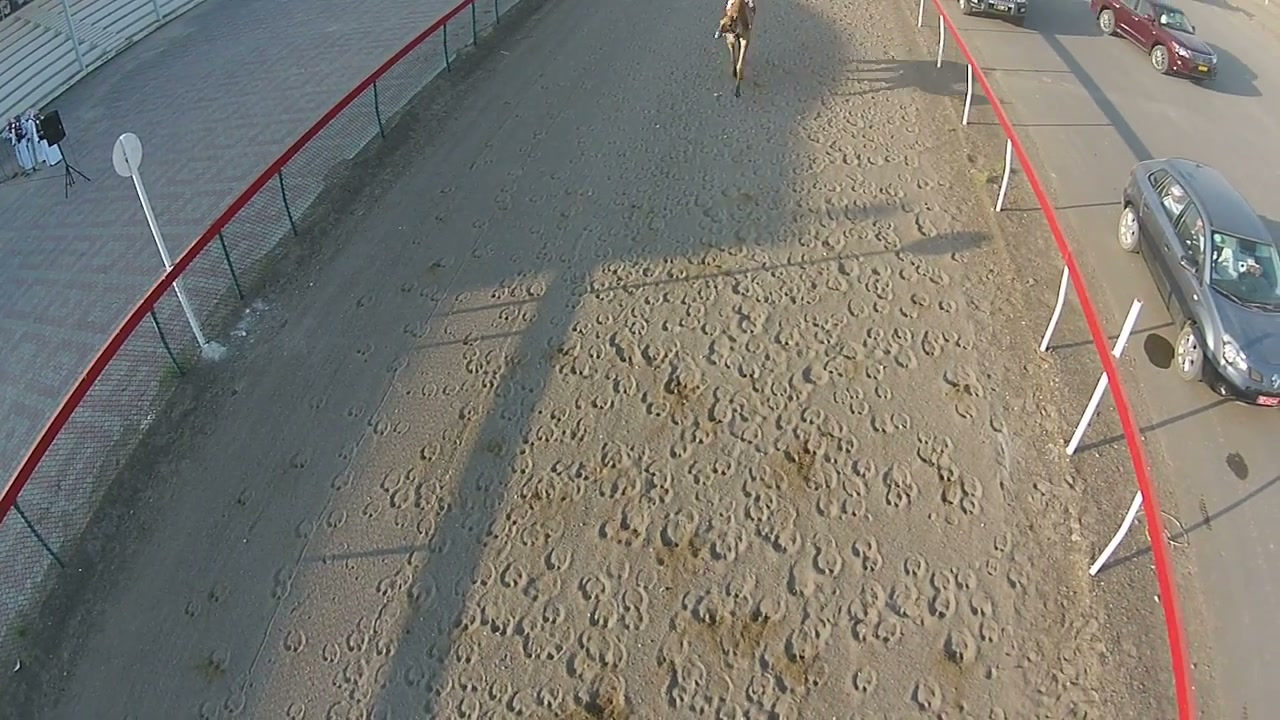animal_footprint: (176, 0, 1109, 717), (759, 623, 829, 698), (783, 622, 830, 685), (568, 627, 626, 676), (516, 611, 571, 661), (599, 498, 653, 546), (573, 671, 630, 716), (466, 590, 518, 636), (756, 504, 802, 555), (937, 465, 983, 515), (943, 366, 985, 419), (707, 507, 747, 562), (666, 658, 707, 710), (814, 478, 865, 518), (652, 614, 691, 666), (682, 589, 732, 625), (846, 579, 886, 621), (882, 462, 918, 508), (723, 570, 758, 617), (658, 508, 699, 548), (887, 579, 925, 620), (381, 466, 417, 509), (928, 571, 958, 619), (943, 626, 978, 666), (943, 365, 985, 398), (618, 587, 649, 631), (917, 431, 954, 467), (811, 535, 843, 576), (787, 559, 822, 596), (750, 590, 789, 622), (521, 573, 562, 603), (196, 648, 230, 683), (852, 535, 883, 572), (863, 326, 898, 358), (504, 688, 542, 717), (1004, 553, 1031, 593), (911, 678, 943, 711), (849, 457, 878, 493), (850, 611, 880, 645), (577, 573, 612, 602), (864, 266, 893, 301), (870, 410, 911, 434), (872, 616, 903, 647), (851, 666, 878, 701), (542, 544, 573, 572), (919, 328, 948, 357), (270, 565, 294, 600), (898, 293, 928, 319), (902, 552, 928, 581), (873, 365, 893, 402), (888, 327, 912, 353), (954, 567, 978, 592), (893, 346, 917, 370), (282, 628, 306, 652), (977, 619, 1000, 644), (991, 529, 1013, 555), (322, 508, 347, 530), (335, 440, 358, 462), (287, 449, 311, 470), (954, 398, 978, 419), (320, 642, 342, 663), (295, 518, 316, 540), (308, 391, 329, 412), (346, 401, 367, 420), (284, 701, 305, 719), (184, 598, 202, 618)
